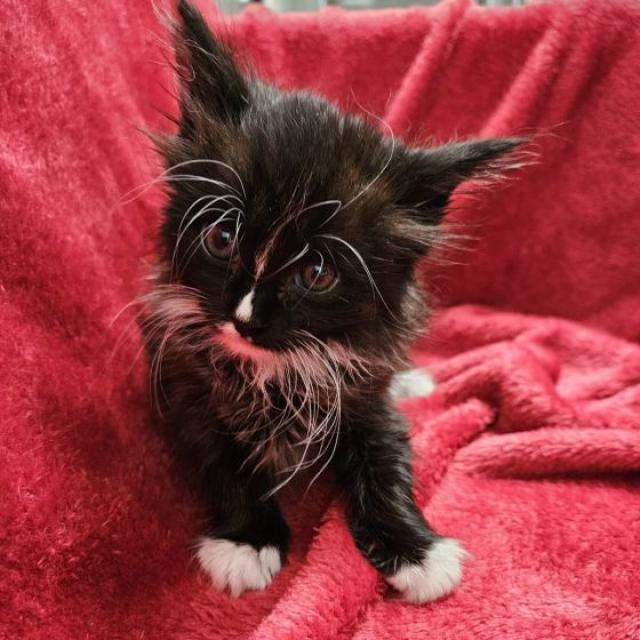domestic_long_hair_cat: (139, 8, 527, 426)
